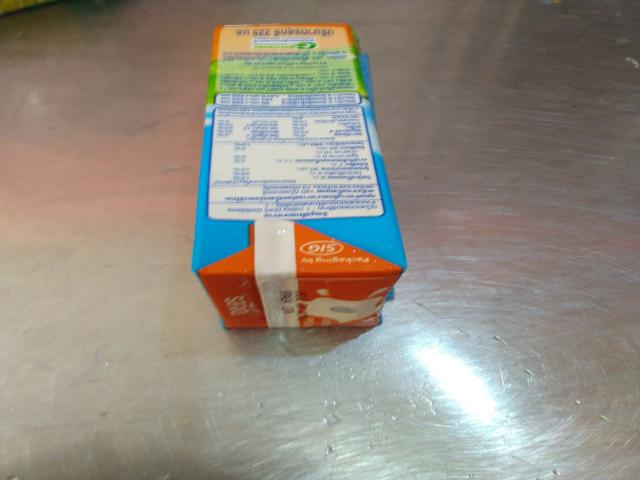drink_box: (178, 16, 443, 346)
